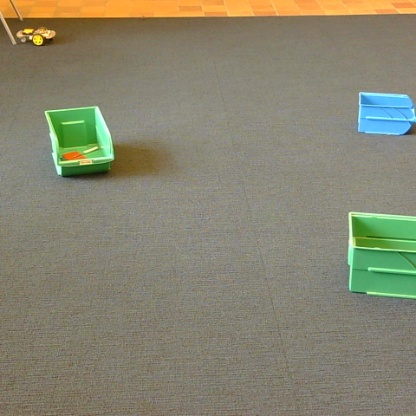robot: (16, 27, 55, 45)
